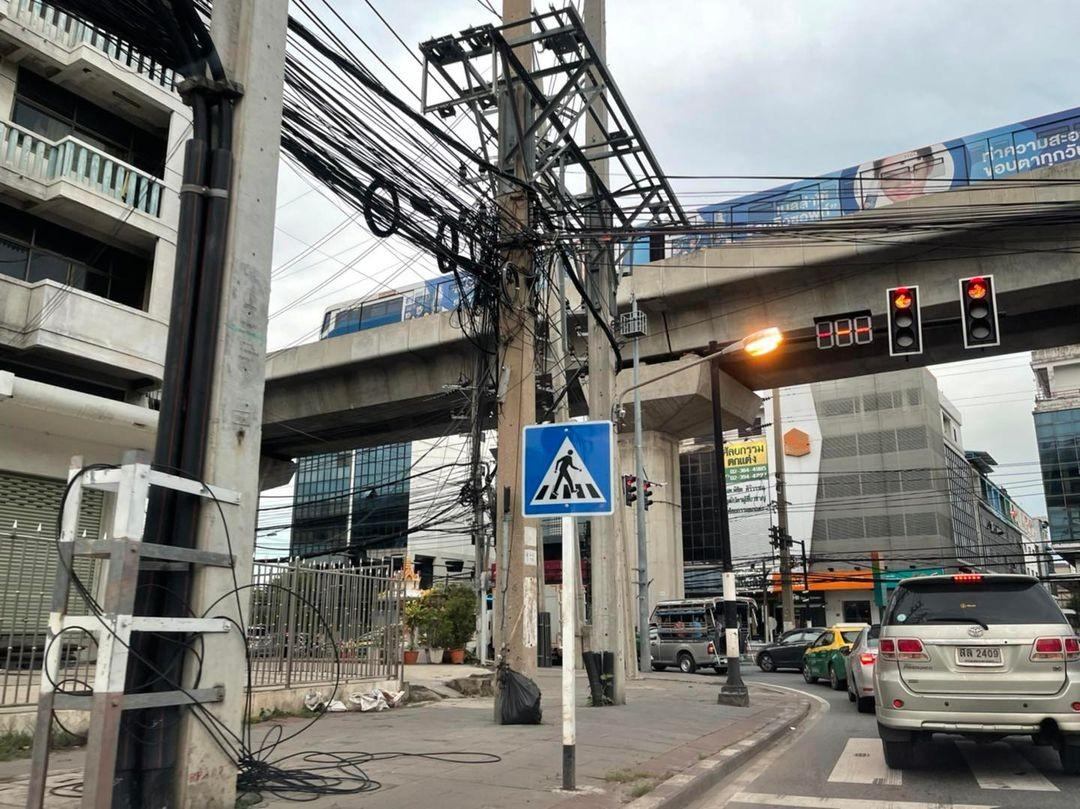wires-only: (288, 0, 495, 445), (253, 575, 386, 798)
